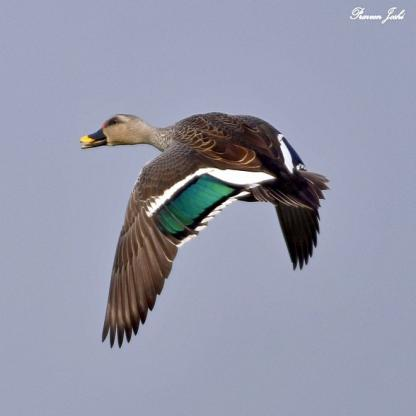Burung: (80, 111, 329, 349)
